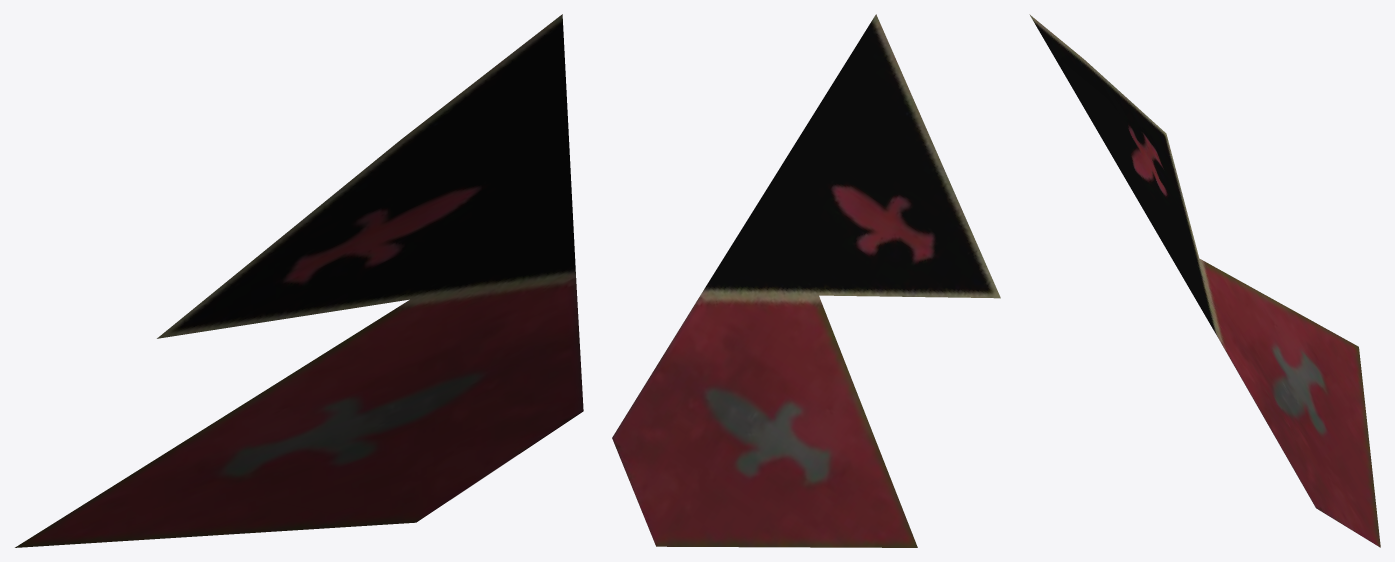
Rendered from Ribbon_2.glb.
3 views of the same model, side by side, from view 1: azimuth 30°, elevation 25°; view 2: azimuth 150°, elevation 25°; view 3: azimuth 270°, elevation 25° (orthographic). The views are drawn at different scales.
Visible parts, largest first — view 1: Ribbon_2; view 2: Ribbon_2; view 3: Ribbon_2.
Boxes of the visible parts, left/top/right/bottom form: Ribbon_2: left=15, top=14, right=583, bottom=547; Ribbon_2: left=612, top=14, right=1000, bottom=547; Ribbon_2: left=1029, top=14, right=1380, bottom=547.
Bounding box in the file's own units: 0.4111 × 0.5274 × 0.338.
1 material, 1 textured.
